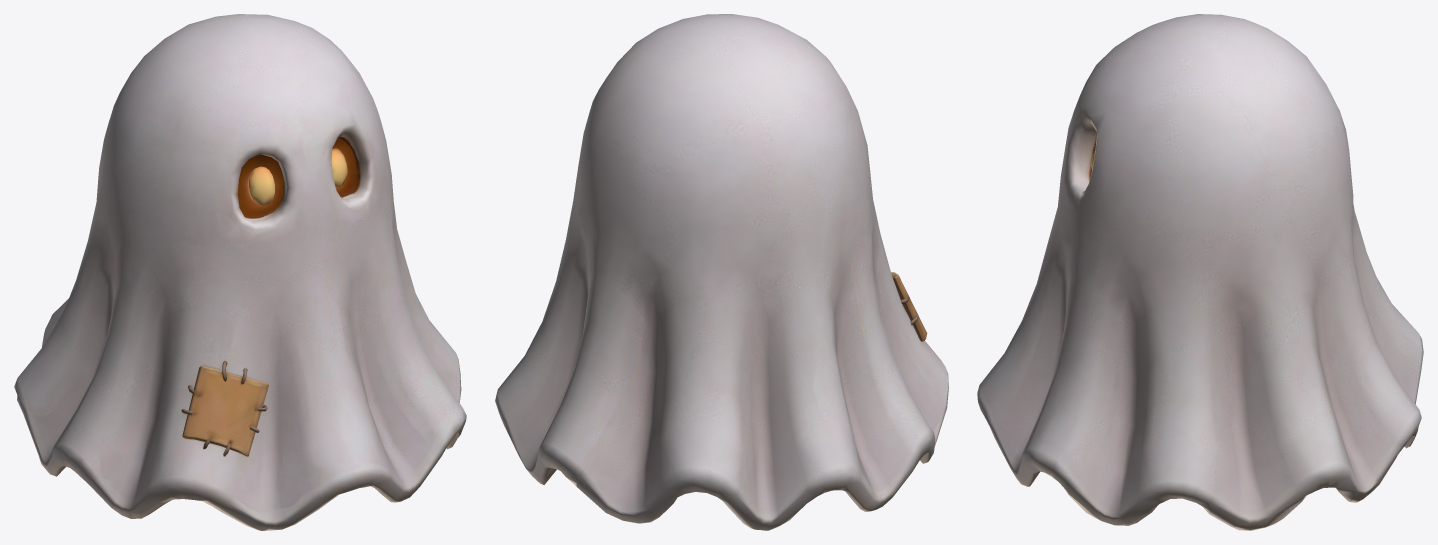
The model's file is sheet_ghost.glb.
The picture shows the model from 3 angles, left to right: view 1: azimuth 30°, elevation 25°; view 2: azimuth 150°, elevation 25°; view 3: azimuth 270°, elevation 25°; orthographic projection.
Parts seen in each view (by area): view 1: geometry_0; view 2: geometry_0; view 3: geometry_0.
Boxes of the visible parts, left/top/right/bottom form: geometry_0: left=14, top=14, right=466, bottom=530; geometry_0: left=495, top=14, right=948, bottom=530; geometry_0: left=977, top=14, right=1423, bottom=530.
Bounding box in the file's own units: 0.9121 × 0.9531 × 0.9121.
Materials: 1 (1 with a texture image).
